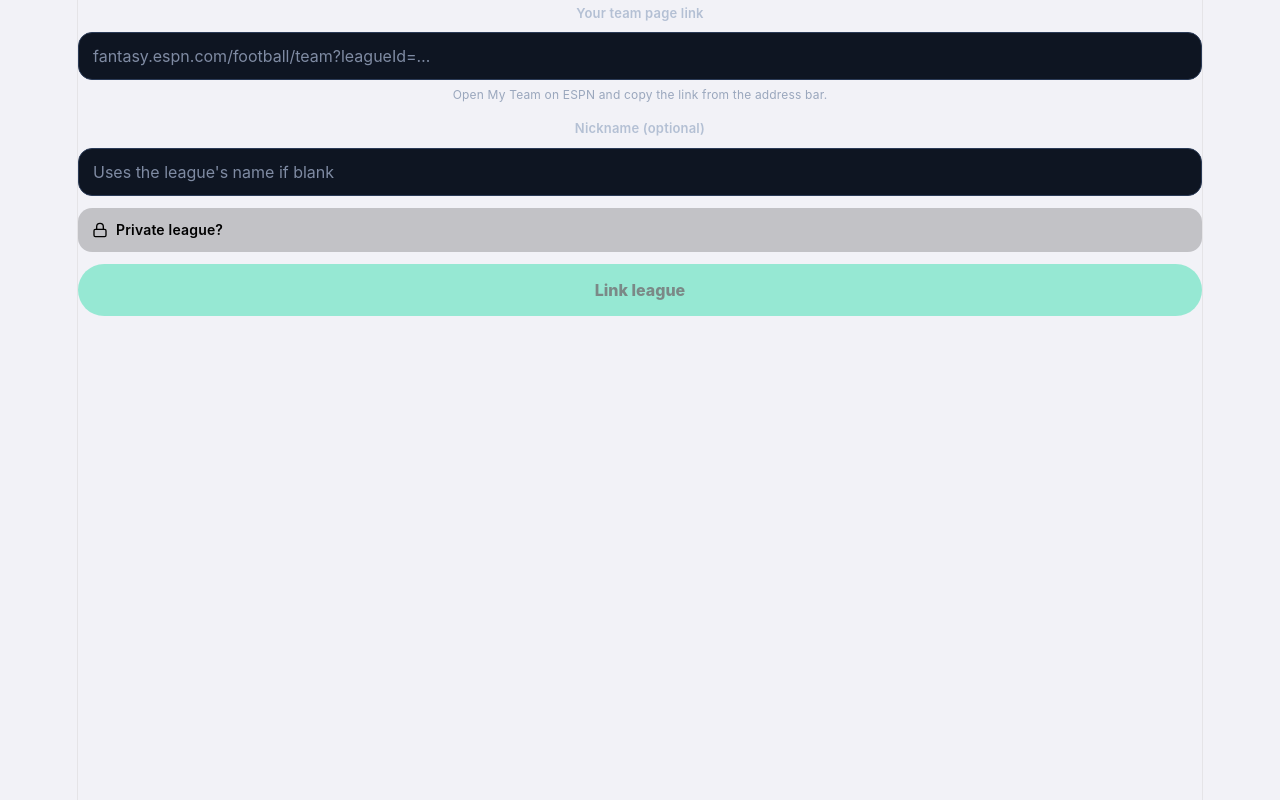
it: EspnLinkForm › explains what to paste when the link is wrong
Type "espn.com/nfl" into the field labelled "Your team page link" at [640, 56], box [78, 32, 1202, 80]
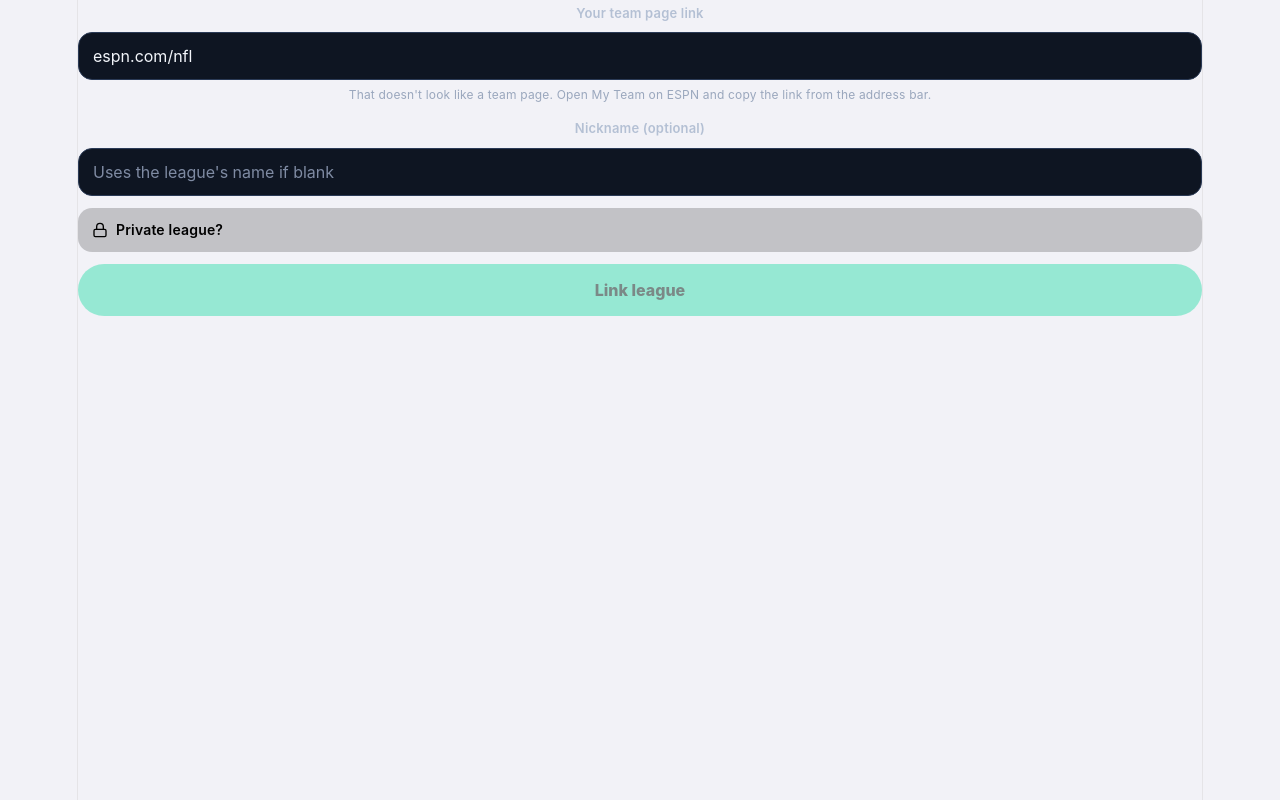
Now the text "doesn't look like a team page" is shown, box [349, 87, 931, 102]
